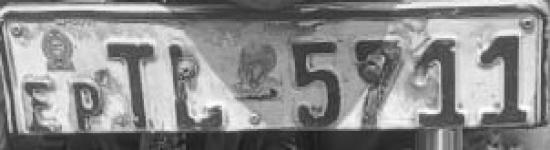-: (232, 78, 281, 106)
1: (472, 32, 533, 128), (407, 32, 468, 127)
5: (286, 32, 346, 128)
7: (350, 30, 404, 130)
E: (22, 76, 64, 137)
L: (163, 36, 232, 130)
P: (67, 74, 103, 130)
T: (106, 35, 162, 129)
